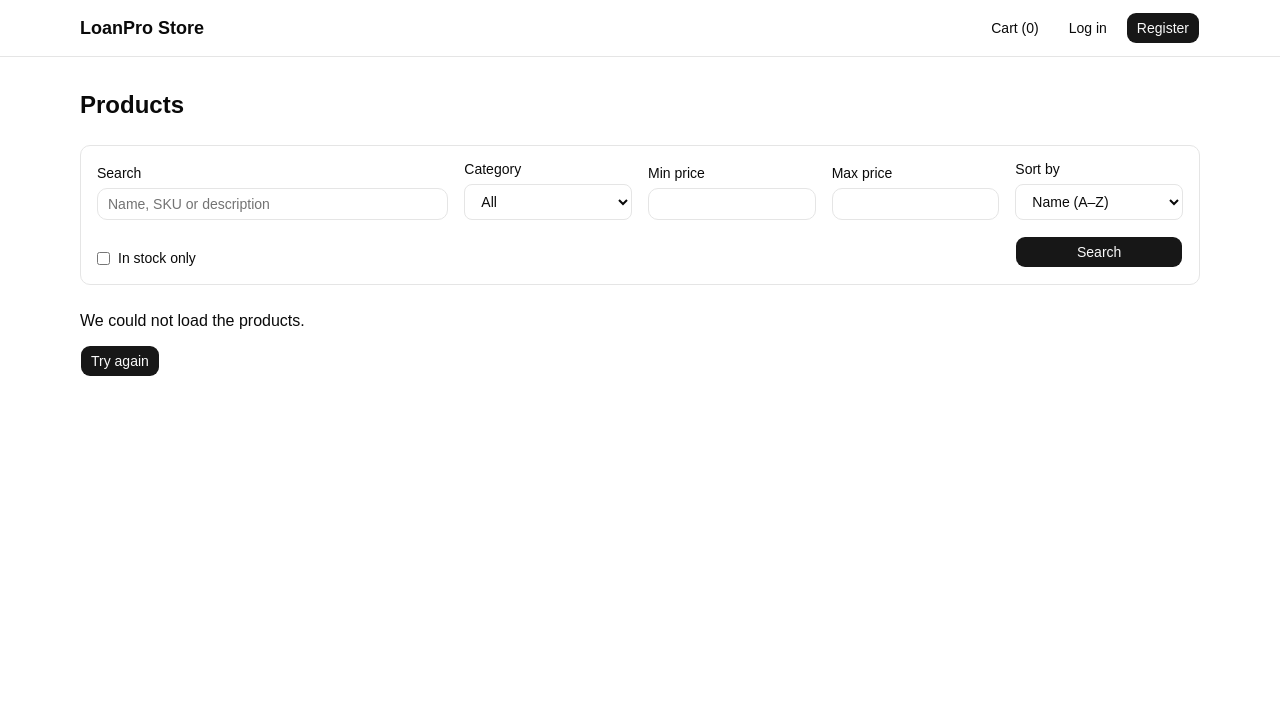
Test: catalog › offers a retry when the catalog cannot be loaded
The image size is (1280, 720).
expect the text "We could not load the products." is shown: met, box [80,309,305,333]
Click the button "Try again". click: [120, 361]
box: [80,345,160,377]
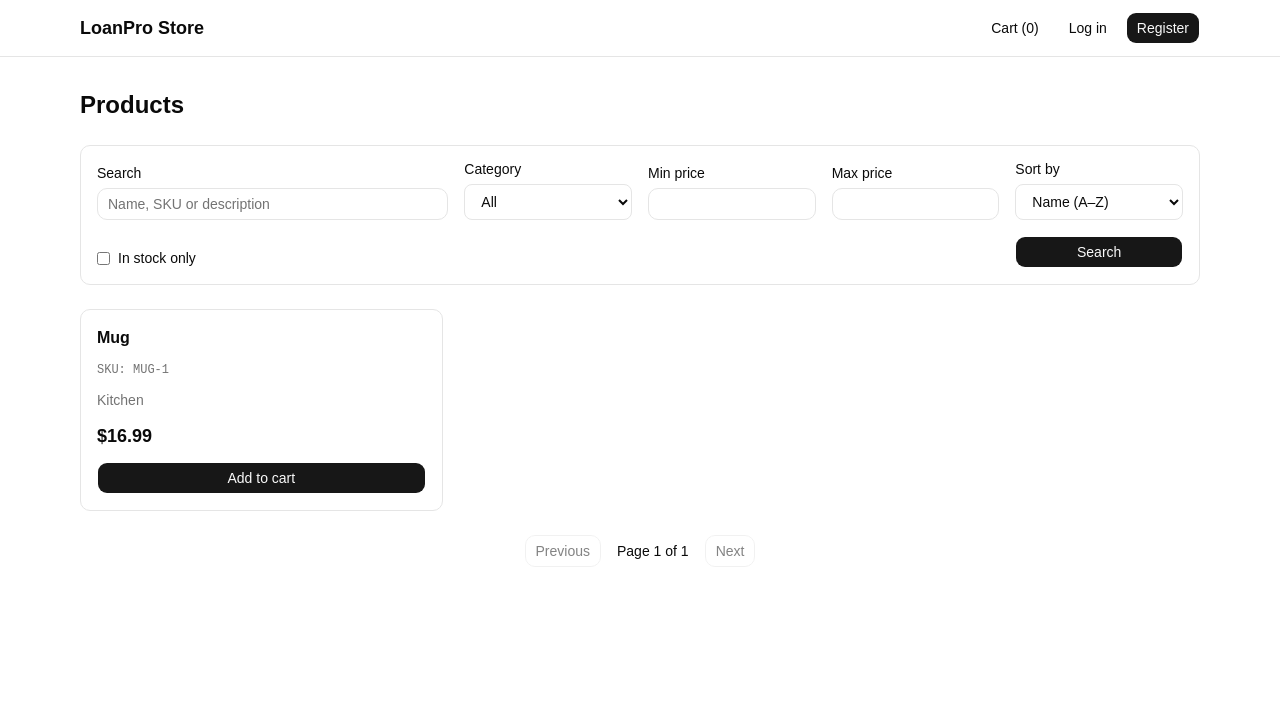
expect the element "Mug" is shown: met, box [80,309,443,511]
